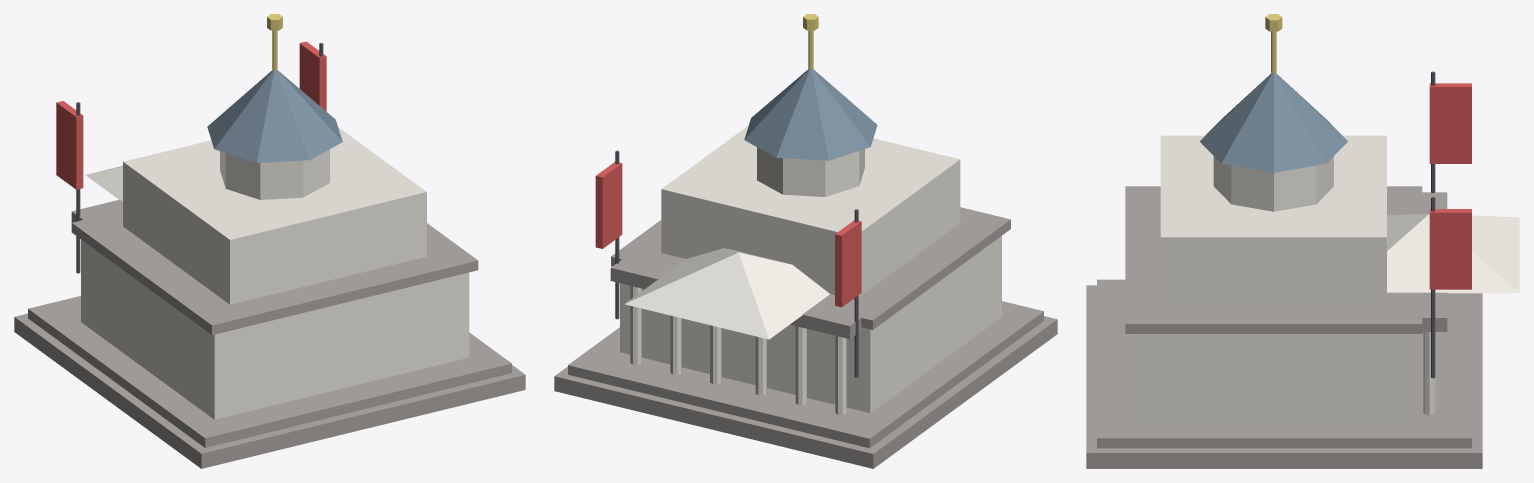
The model's file is monument_pavilion.glb.
3 renders of one model, left to right at view 1: azimuth 30°, elevation 25°; view 2: azimuth 150°, elevation 25°; view 3: azimuth 270°, elevation 25°, orthographic. The views are drawn at different scales.
Parts seen in each view (by area): view 1: Pavilion_Main_Hall, Pavilion_Second_Tier, Pavilion_Stairs_Terrace, Pavilion_Cornice, Pavilion_Podium, Pavilion_Dome_Roof, Pavilion_Cupola_Drum, Pavilion_Banner_0, Pavilion_Banner_1, Pavilion_Portico_Entablature, Pavilion_Pediment; view 2: Pavilion_Second_Tier, Pavilion_Main_Hall, Pavilion_Stairs_Terrace, Pavilion_Pediment, Pavilion_Podium, Pavilion_Dome_Roof, Pavilion_Cornice, Pavilion_Cupola_Drum, Pavilion_Portico_Entablature, Pavilion_Banner_1, Pavilion_Banner_0, Pavilion_Pillar_1 (+5 smaller); view 3: Pavilion_Second_Tier, Pavilion_Main_Hall, Pavilion_Stairs_Terrace, Pavilion_Cornice, Pavilion_Podium, Pavilion_Dome_Roof, Pavilion_Pediment, Pavilion_Cupola_Drum, Pavilion_Banner_1, Pavilion_Banner_0, Pavilion_Portico_Entablature, Pavilion_Pillar_5 (+1 smaller).
Part boxes in pixels (left/top/right/bottom): Pavilion_Main_Hall: left=81, top=239, right=469, bottom=419; Pavilion_Second_Tier: left=123, top=127, right=426, bottom=304; Pavilion_Stairs_Terrace: left=28, top=296, right=511, bottom=447; Pavilion_Cornice: left=71, top=210, right=478, bottom=334; Pavilion_Podium: left=14, top=313, right=525, bottom=468; Pavilion_Dome_Roof: left=207, top=70, right=342, bottom=162; Pavilion_Cupola_Drum: left=220, top=149, right=329, bottom=199; Pavilion_Banner_0: left=56, top=101, right=83, bottom=189; Pavilion_Banner_1: left=299, top=41, right=326, bottom=111; Pavilion_Portico_Entablature: left=71, top=199, right=122, bottom=223; Pavilion_Pediment: left=86, top=166, right=122, bottom=201; Pavilion_Second_Tier: left=661, top=125, right=960, bottom=299; Pavilion_Main_Hall: left=620, top=236, right=1001, bottom=413; Pavilion_Stairs_Terrace: left=568, top=301, right=1043, bottom=448; Pavilion_Pediment: left=624, top=248, right=829, bottom=339; Pavilion_Podium: left=554, top=316, right=1057, bottom=468; Pavilion_Dome_Roof: left=744, top=69, right=877, bottom=160; Pavilion_Cornice: left=611, top=207, right=1010, bottom=329; Pavilion_Cupola_Drum: left=757, top=147, right=864, bottom=196; Pavilion_Portico_Entablature: left=610, top=256, right=865, bottom=339; Pavilion_Banner_1: left=595, top=162, right=622, bottom=248; Pavilion_Banner_0: left=835, top=220, right=861, bottom=307; Pavilion_Pillar_1: left=795, top=326, right=806, bottom=405; Pavilion_Second_Tier: left=1160, top=135, right=1386, bottom=305; Pavilion_Main_Hall: left=1132, top=334, right=1415, bottom=424; Pavilion_Stairs_Terrace: left=1097, top=279, right=1471, bottom=448; Pavilion_Cornice: left=1125, top=186, right=1422, bottom=333; Pavilion_Podium: left=1086, top=285, right=1482, bottom=468; Pavilion_Dome_Roof: left=1200, top=73, right=1347, bottom=172; Pavilion_Pediment: left=1387, top=213, right=1519, bottom=293; Pavilion_Cupola_Drum: left=1213, top=156, right=1333, bottom=211; Pavilion_Banner_1: left=1429, top=209, right=1471, bottom=289; Pavilion_Banner_0: left=1429, top=83, right=1471, bottom=163; Pavilion_Portico_Entablature: left=1412, top=192, right=1447, bottom=331; Pavilion_Pillar_5: left=1423, top=332, right=1435, bottom=415.
Size of the model in its own units: 5.6 by 5.74 by 6.12.
